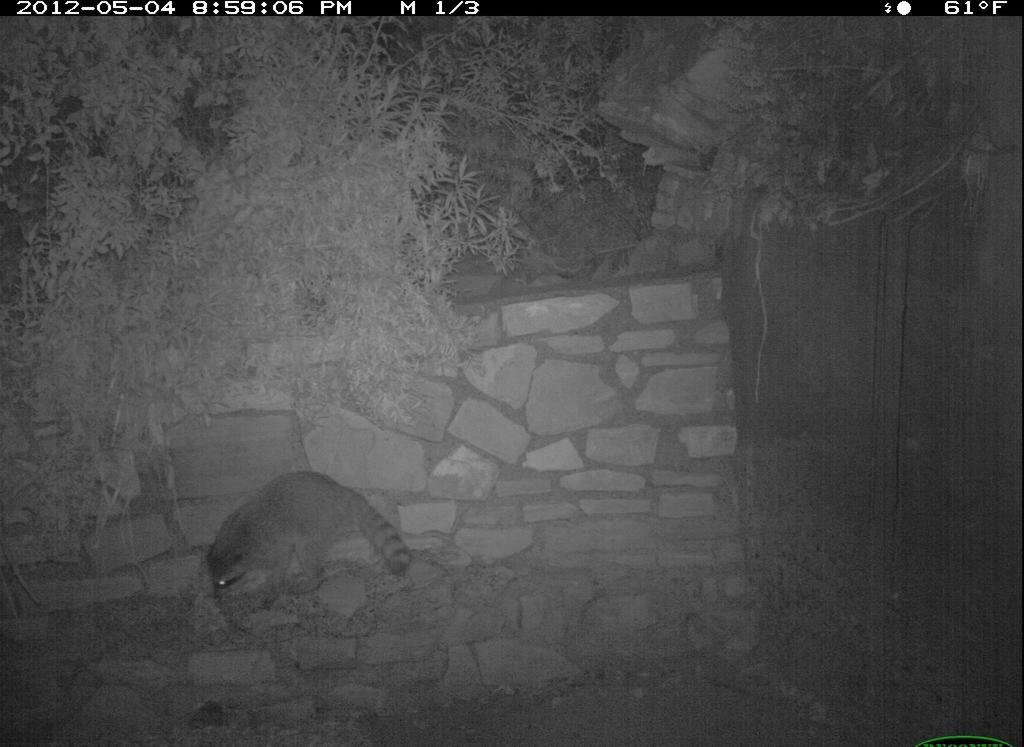raccoon: (190, 446, 419, 625)
